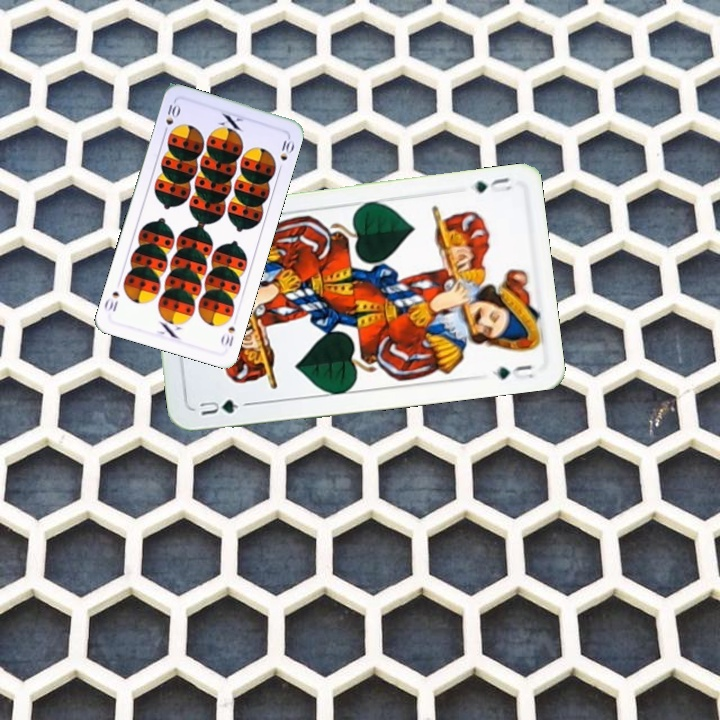GU: (195, 395, 251, 418), (471, 174, 514, 196)
S10: (159, 98, 182, 137), (217, 322, 238, 350)
